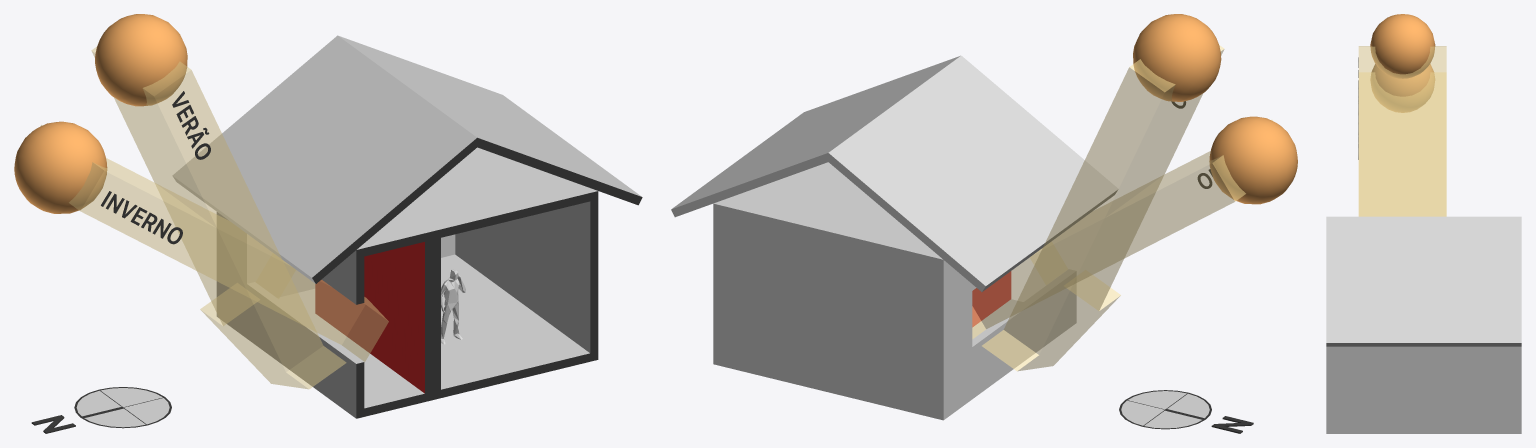
Rendered from inercia.glb.
The picture shows the model from 3 angles, left to right: view 1: azimuth 30°, elevation 25°; view 2: azimuth 150°, elevation 25°; view 3: azimuth 270°, elevation 25°; orthographic projection. The views are drawn at different scales.
Visible parts, largest first — view 1: object 2, object 5, object 6, object 8, object 3, object 9, object 7, root, Guy05, INVERNO, VERÃO; view 2: object 2, object 5, object 6, object 8, object 9, object 7, root, object 3; view 3: object 5, object 2, object 6, object 8, object 7, object 9.
Boxes of the visible parts, x1,y1,x2,y2 form: object 2: (216,147,598,418); object 5: (172,35,642,283); object 6: (91,47,346,389); object 8: (41,125,388,361); object 3: (315,238,440,393); object 9: (14,121,107,213); object 7: (95,14,187,106); root: (74,387,171,428); Guy05: (441,269,465,344); INVERNO: (101,191,182,244); VERÃO: (172,91,210,159); object 2: (713,162,1076,420); object 5: (671,55,1118,291); object 6: (982,45,1224,371); object 8: (972,120,1272,338); object 9: (1209,116,1297,204); object 7: (1133,14,1221,101); root: (1119,390,1211,429); object 3: (972,271,1011,327); object 5: (1326,216,1521,346); object 2: (1326,346,1521,433); object 6: (1358,46,1446,216); object 8: (1359,72,1446,216); object 7: (1370,14,1435,78); object 9: (1370,64,1434,112).
Bounding box in the file's own units: 2.81 × 1.89 × 1.2.
